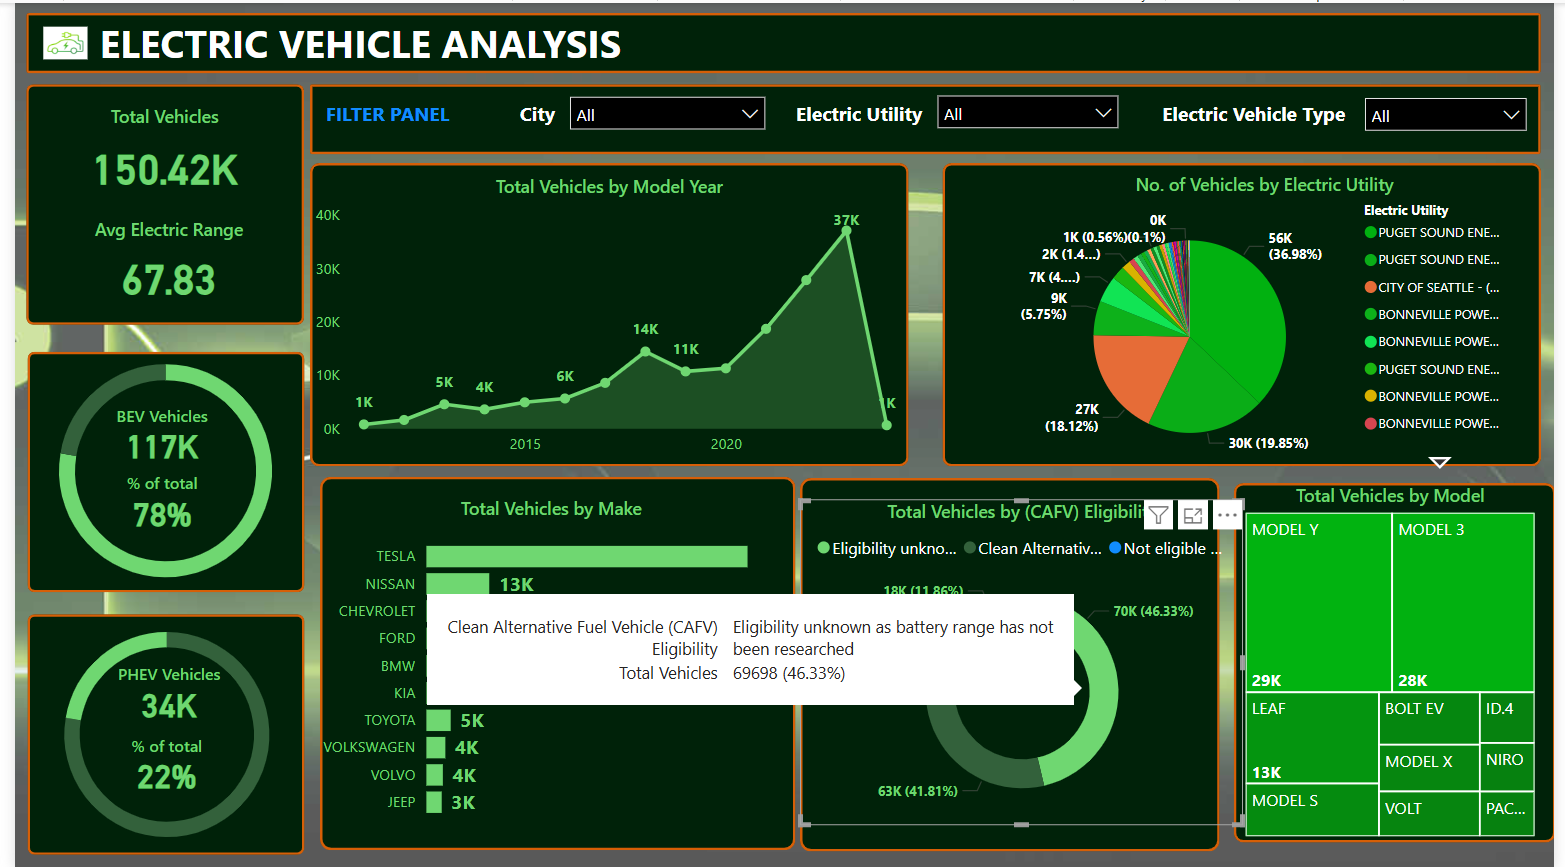

The dashboard page shown, as its layout file describes it:
{"tool":"powerbi","page":{"name":"Page 1","canvas":[1280,720],"ordinal":0},"visuals":[{"type":"shape","box":[9.3,8.1,1259.3,50],"z":0},{"type":"textbox","box":[65.1,5.8,507,52.3],"z":1000},{"type":"shape","box":[9.3,67.4,231,200],"z":2000},{"type":"card","title":"Total Vehicles","fields":{"Values":["Electric_Vehicle_Population_Data.Total Vehicles"]},"box":[23.3,83.7,203.1,83.7],"z":3000},{"type":"card","title":"Avg Electric Range","fields":{"Values":["Avg(Electric_Vehicle_Population_Data.Electric Range)"]},"box":[29.1,177.9,197.7,80.2],"z":4000},{"type":"shape","box":[10.5,289.5,230.2,200],"z":5000},{"type":"shape","box":[10.5,508.1,230.2,200],"z":6000},{"type":"donutChart","fields":{"Category":["Electric_Vehicle_Population_Data.Electric Vehicle Type"],"Y":["Electric_Vehicle_Population_Data.Total Vehicles"]},"box":[6.7,273.3,238.3,231.6],"z":7000},{"type":"card","title":"BEV Vehicles","fields":{"Values":["Electric_Vehicle_Population_Data.BEV Vehicles"]},"box":[16.2,333.9,211.4,51.2],"z":8000},{"type":"card","title":"% of total","fields":{"Values":["Electric_Vehicle_Population_Data.% of BEV"]},"box":[16.3,389.5,211.6,51.2],"z":9000},{"type":"donutChart","fields":{"Category":["Electric_Vehicle_Population_Data.Electric Vehicle Type"],"Y":["Electric_Vehicle_Population_Data.Total Vehicles"]},"box":[7,496.5,238.4,223.3],"z":10000},{"type":"card","title":"PHEV Vehicles","fields":{"Values":["Electric_Vehicle_Population_Data.PHEV Vehicles"]},"box":[26.7,548.8,202.3,51.2],"z":11000},{"type":"card","title":"% of total","fields":{"Values":["Electric_Vehicle_Population_Data.% of PHEV"]},"box":[18.6,608.1,215.1,51.2],"z":12000},{"type":"shape","box":[245.3,67.4,1023.3,58.1],"z":13000},{"type":"shape","box":[245.3,132.6,497.7,252.3],"z":14000},{"type":"areaChart","fields":{"Category":["Electric_Vehicle_Population_Data.Model Year"],"Y":["Electric_Vehicle_Population_Data.Total Vehicles"]},"box":[245.3,141.9,497.7,243],"z":15000},{"type":"shape","box":[770.9,132.6,497.7,252.3],"z":16000},{"type":"shape","box":[253.5,394.2,395.3,310.5],"z":17000},{"type":"barChart","fields":{"Category":["Electric_Vehicle_Population_Data.Make"],"Y":["Electric_Vehicle_Population_Data.Total Vehicles"]},"box":[244.2,409.5,403.2,278.5],"z":18000},{"type":"shape","box":[652.3,395.3,348.8,310.5],"z":19000},{"type":"donutChart","title":"Total Vehicles by  (CAFV) Eligibility","fields":{"Category":["Electric_Vehicle_Population_Data.Clean Alternative Fuel Vehicle (CAFV) Eligibility"],"Y":["Electric_Vehicle_Population_Data.Total Vehicles"]},"box":[652.3,412.8,369.8,270.9],"z":20000},{"type":"shape","box":[1012.8,398.8,267.4,298.8],"z":21000},{"type":"treemap","fields":{"Group":["Electric_Vehicle_Population_Data.Model"],"Values":["Electric_Vehicle_Population_Data.Total Vehicles"]},"box":[1018.6,398.8,250,298.8],"z":22000},{"type":"textbox","box":[253.5,75.6,197.7,50],"z":23000},{"type":"slicer","fields":{"Values":["Electric_Vehicle_Population_Data.City"]},"box":[451.2,67.4,182.6,41.9],"z":24000},{"type":"textbox","box":[415.1,75.6,53.5,41.9],"z":25000},{"type":"textbox","box":[644.2,75.6,133.7,33.7],"z":26000},{"type":"slicer","fields":{"Values":["Electric_Vehicle_Population_Data.Electric Utility"]},"box":[757,66.3,170.9,52.3],"z":27000},{"type":"slicer","fields":{"Values":["Electric_Vehicle_Population_Data.Electric Vehicle Type"]},"box":[1111.6,68.6,154.7,52.3],"z":28000},{"type":"textbox","box":[948.8,75.6,170.9,36],"z":29000},{"type":"pieChart","title":"No. of Vehicles by Electric Utility","fields":{"Y":["Electric_Vehicle_Population_Data.Total Vehicles"],"Category":["Electric_Vehicle_Population_Data.Electric Utility"]},"box":[826.7,140.7,423.3,254.7],"z":29001},{"type":"image","box":[18.6,12.8,46.5,41.9],"z":29002}]}

Visuals, with their boxes in screenshot pixels (x1, y1, x2, y2), scaled from the page's 1280x720 canvas onto the 1565x867 screenshot:
shape: 11,10,1551,70
textbox: 80,7,699,70
shape: 11,81,294,322
"Total Vehicles" card: 28,101,277,202
"Avg Electric Range" card: 36,214,277,311
shape: 13,349,294,589
shape: 13,612,294,853
donutChart - Electric_Vehicle_Population_Data.Electric Vehicle Type x Electric_Vehicle_Population_Data.Total Vehicles: 8,329,300,608
"BEV Vehicles" card: 20,402,278,464
"% of total" card: 20,469,279,531
donutChart - Electric_Vehicle_Population_Data.Electric Vehicle Type x Electric_Vehicle_Population_Data.Total Vehicles: 9,598,300,866
"PHEV Vehicles" card: 33,661,280,722
"% of total" card: 23,732,286,794
shape: 300,81,1551,151
shape: 300,160,908,463
areaChart - Electric_Vehicle_Population_Data.Model Year x Electric_Vehicle_Population_Data.Total Vehicles: 300,171,908,463
shape: 943,160,1551,463
shape: 310,475,793,849
barChart - Electric_Vehicle_Population_Data.Make x Electric_Vehicle_Population_Data.Total Vehicles: 299,493,792,828
shape: 798,476,1224,850
"Total Vehicles by  (CAFV) Eligibility" donutChart: 798,497,1250,823
shape: 1238,480,1564,840
treemap - Electric_Vehicle_Population_Data.Model x Electric_Vehicle_Population_Data.Total Vehicles: 1245,480,1551,840
textbox: 310,91,552,151
slicer - Electric_Vehicle_Population_Data.City: 552,81,775,132
textbox: 508,91,573,141
textbox: 788,91,951,132
slicer - Electric_Vehicle_Population_Data.Electric Utility: 926,80,1135,143
slicer - Electric_Vehicle_Population_Data.Electric Vehicle Type: 1359,83,1548,146
textbox: 1160,91,1369,134
"No. of Vehicles by Electric Utility" pieChart: 1011,169,1528,476
image: 23,15,80,66
